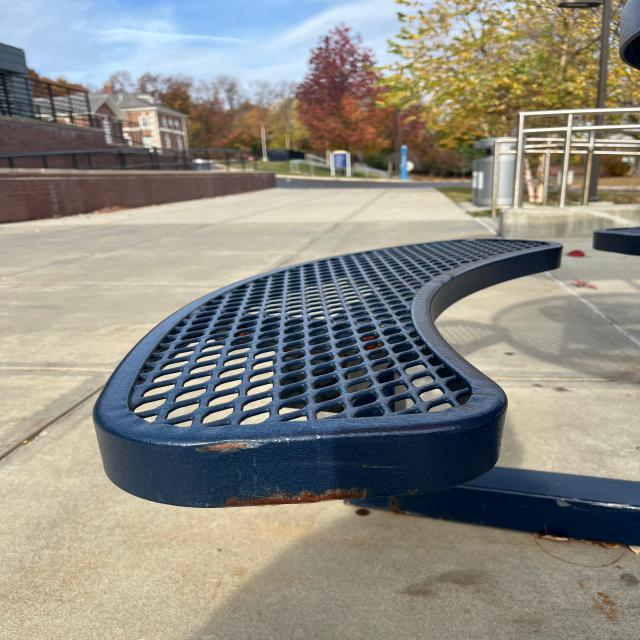Filiform Corrosion: (225, 481, 374, 511), (177, 436, 287, 461)
